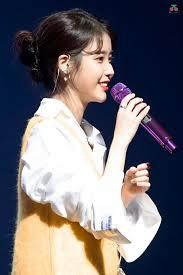earphone: (61, 61, 71, 72)
